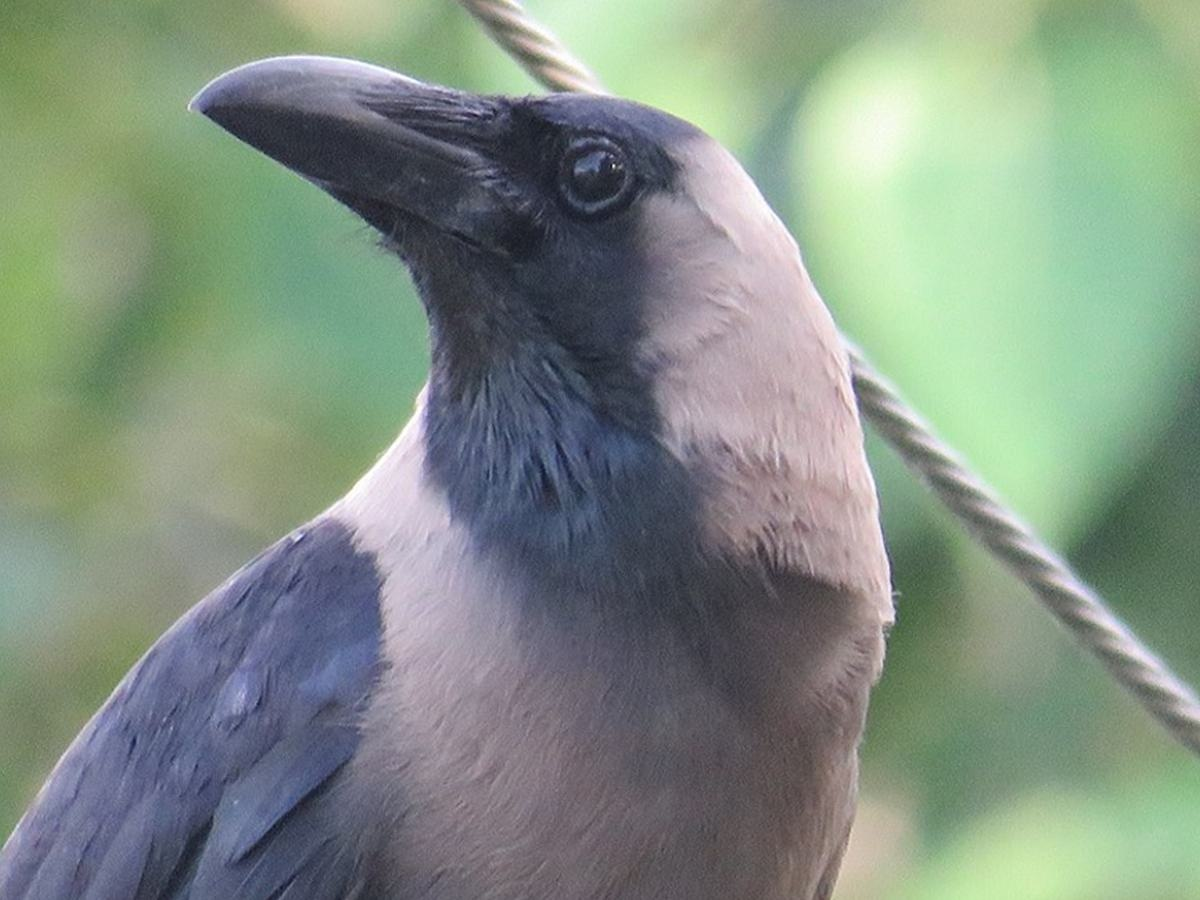crow: (1, 38, 894, 900)
